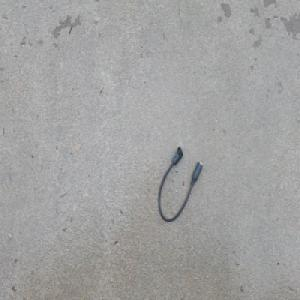Wire: (157, 145, 202, 223)
